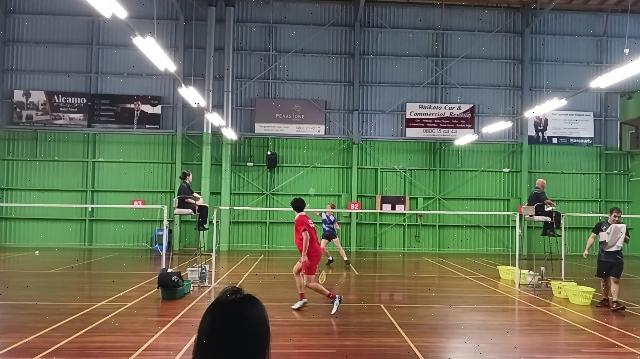Shuttlecock: (266, 150, 272, 156)
